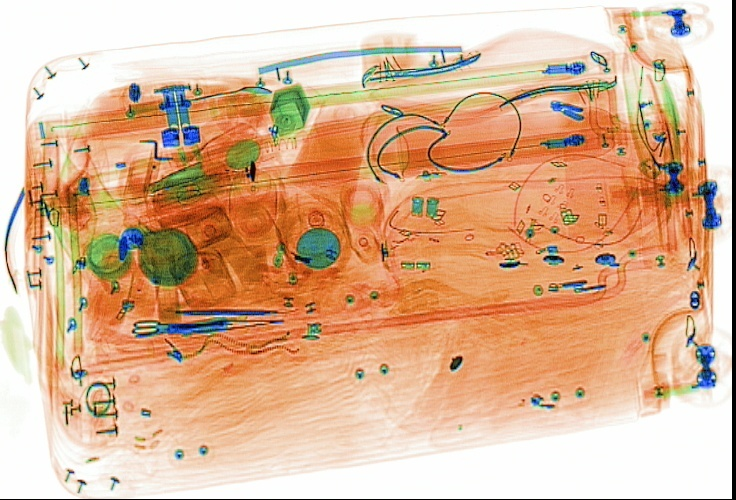pressure: (393, 104, 632, 177)
scissors: (127, 312, 229, 340)
